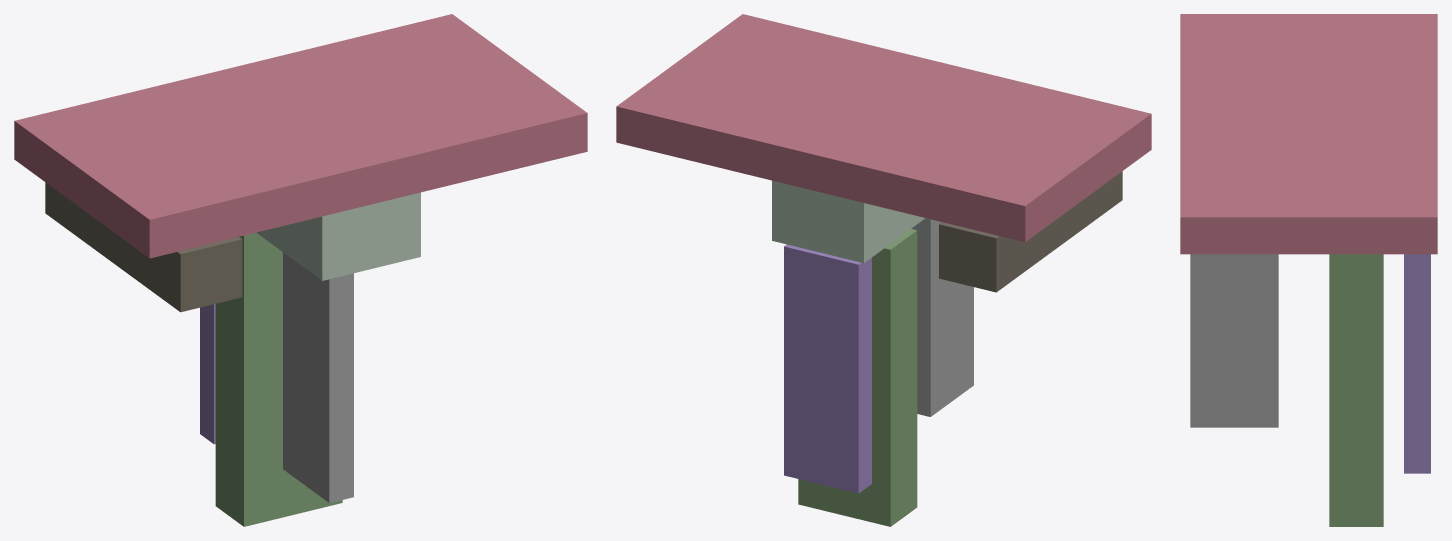
File: 199519_pred.glb
3 views of the same model, side by side, from view 1: azimuth 30°, elevation 25°; view 2: azimuth 150°, elevation 25°; view 3: azimuth 270°, elevation 25° (orthographic). The views are drawn at different scales.
Parts seen in each view (by area): view 1: world; view 2: world; view 3: world.
Boxes of the visible parts, left/top/right/bottom form: world: left=14, top=14, right=587, bottom=526; world: left=616, top=14, right=1151, bottom=526; world: left=1180, top=14, right=1437, bottom=526.
Size of the model in its own units: 7.1 by 6.3 by 3.8.
